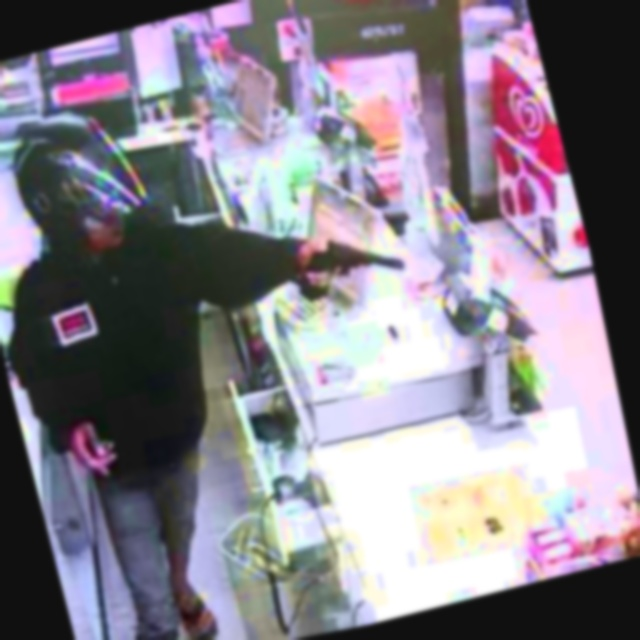gun: (283, 218, 420, 332)
